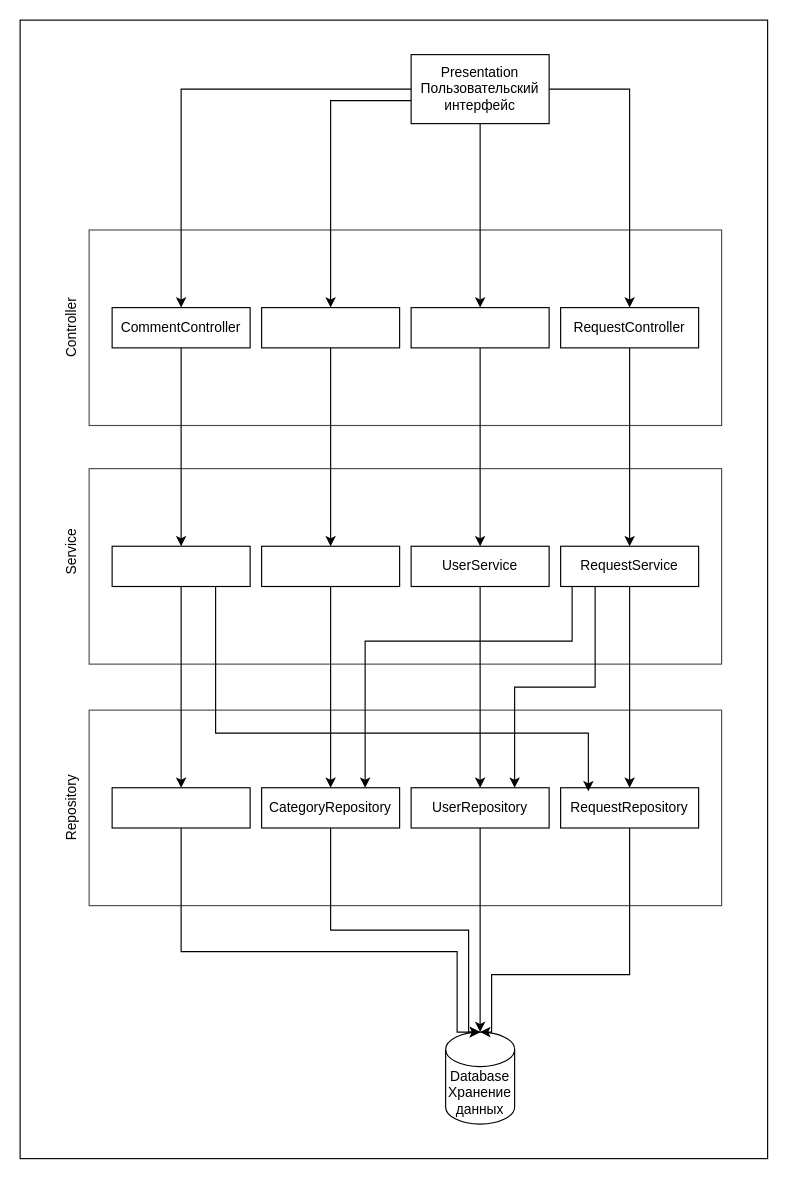
This 788x1179 diagram has some shape labels left out. Each missing label, with the centre of its shape:
CategoryController: the point at 330,327
CategoryService: the point at 330,565
CommentRepository: the point at 180,807
CommentService: the point at 180,565
UserController: the point at 479,327
